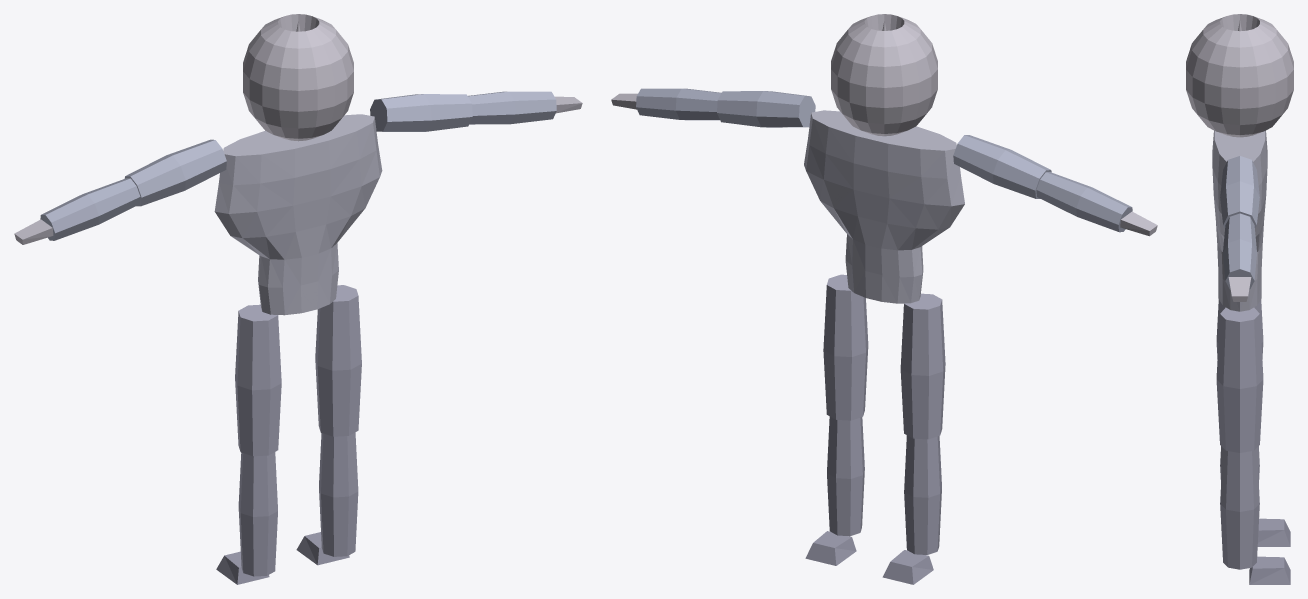
The model's file is 9fea0c01-35c1-4c6d-9c7c-41cd8115bb6f.glb.
The picture shows the model from 3 angles, left to right: view 1: azimuth 30°, elevation 25°; view 2: azimuth 150°, elevation 25°; view 3: azimuth 270°, elevation 25°; orthographic projection. The views are drawn at different scales.
Visible parts, largest first — view 1: Torso, Head, Leg_L_Upper, Leg_R_Upper, Leg_L_Lower, Leg_R_Lower, Arm_L_Upper, Arm_R_Upper, Arm_L_Lower, Arm_R_Lower, Foot_R, Foot_L; view 2: Torso, Head, Leg_L_Upper, Leg_R_Upper, Leg_R_Lower, Leg_L_Lower, Arm_L_Upper, Arm_R_Upper, Arm_L_Lower, Arm_R_Lower, Foot_R, Foot_L; view 3: Head, Leg_R_Upper, Leg_R_Lower, Torso, Arm_R_Upper, Arm_R_Lower, Foot_R, Foot_L, Hand_R, Leg_L_Upper.
Boxes of the visible parts, box(x1,y1,x2,y2) form: Torso: box(214, 114, 382, 315); Head: box(243, 14, 353, 141); Leg_L_Upper: box(235, 304, 281, 456); Leg_R_Upper: box(315, 285, 361, 436); Leg_L_Lower: box(238, 452, 277, 576); Leg_R_Lower: box(319, 432, 358, 556); Arm_L_Upper: box(124, 139, 226, 206); Arm_R_Upper: box(370, 94, 472, 131); Arm_L_Lower: box(40, 178, 140, 240); Arm_R_Lower: box(468, 91, 556, 124); Foot_R: box(296, 532, 349, 565); Foot_L: box(216, 551, 269, 584); Torso: box(804, 110, 964, 303); Head: box(831, 14, 937, 136); Leg_L_Upper: box(900, 293, 945, 439); Leg_R_Upper: box(823, 274, 868, 420); Leg_R_Lower: box(827, 416, 864, 536); Leg_L_Lower: box(904, 435, 941, 554); Arm_L_Upper: box(953, 135, 1051, 198); Arm_R_Upper: box(717, 91, 815, 127); Arm_L_Lower: box(1036, 172, 1132, 232); Arm_R_Lower: box(636, 88, 721, 120); Foot_R: box(805, 531, 856, 565); Foot_L: box(882, 550, 933, 584); Head: box(1186, 14, 1293, 137); Leg_R_Upper: box(1216, 307, 1263, 452); Leg_R_Lower: box(1220, 448, 1259, 569); Torso: box(1212, 130, 1267, 311); Arm_R_Upper: box(1220, 156, 1259, 228); Arm_R_Lower: box(1223, 213, 1256, 289); Foot_R: box(1249, 556, 1290, 584); Foot_L: box(1257, 518, 1290, 546); Hand_R: box(1228, 277, 1251, 301); Leg_L_Upper: box(1216, 299, 1263, 359).
Bounding box in the file's own units: 1.56 × 1.48 × 0.2686.
